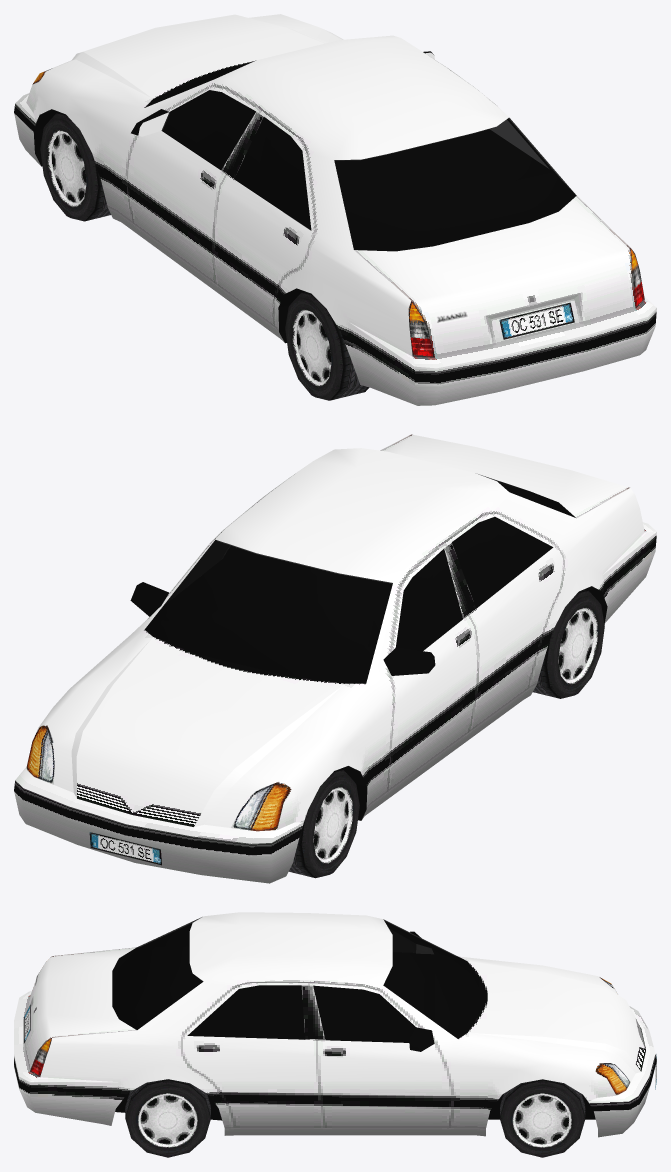
The model's file is othcar-06.glb.
The picture shows the model from 3 angles, top to bottom: view 1: azimuth 30°, elevation 25°; view 2: azimuth 150°, elevation 25°; view 3: azimuth 270°, elevation 25°; orthographic projection. The views are drawn at different scales.
Visible parts, largest first — view 1: body, wheel FL, wheel RL; view 2: body, wheel FL, wheel RL; view 3: body, wheel FR, wheel RR.
Boxes of the visible parts, x1,y1,x2,y2 form: body: (14, 14, 656, 405); wheel FL: (285, 291, 369, 400); wheel RL: (40, 112, 110, 221); body: (14, 434, 656, 883); wheel FL: (533, 589, 604, 698); wheel RL: (289, 769, 359, 878); body: (14, 912, 656, 1137); wheel FR: (125, 1079, 210, 1157); wheel RR: (500, 1079, 585, 1157).
Size of the model in its own units: 2.12 by 1.5 by 5.17.
Materials: 17 (9 with a texture image).
